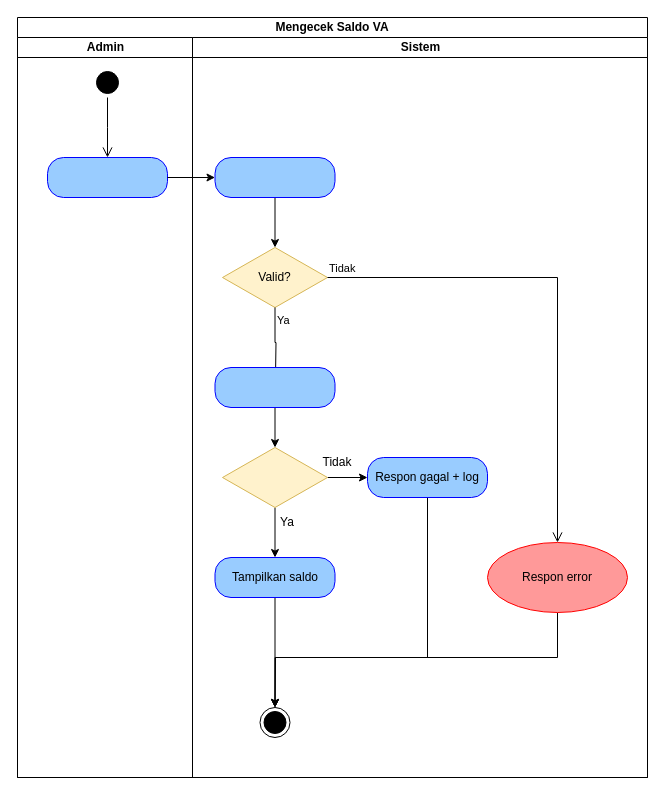
Image size: 665x795. Some labels were removed from this diagram. The shapes that lost their labels are listed below. From the top down, each one's centre as x and y in pixels, then its label:
At point (107, 177): "Admin input nomor VA".
At point (274, 177): "Validasi format VA".
At point (274, 387): "Kirim request ke Bank Jatijm".
At point (275, 477): "Respon sukses?".
